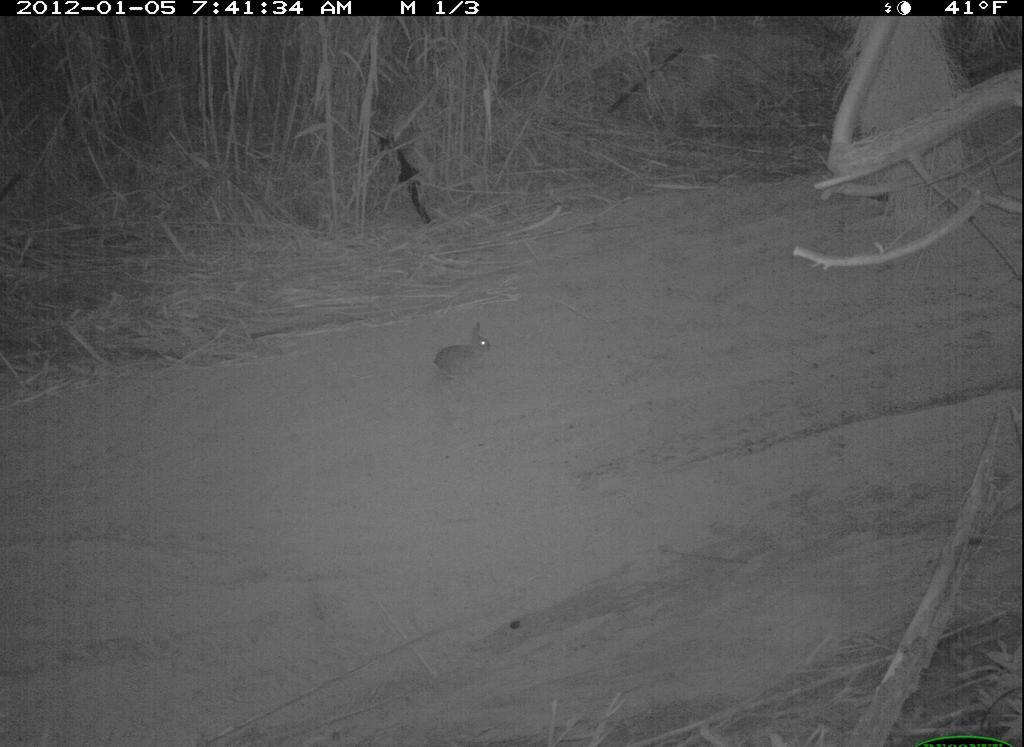rabbit: (431, 315, 509, 393)
